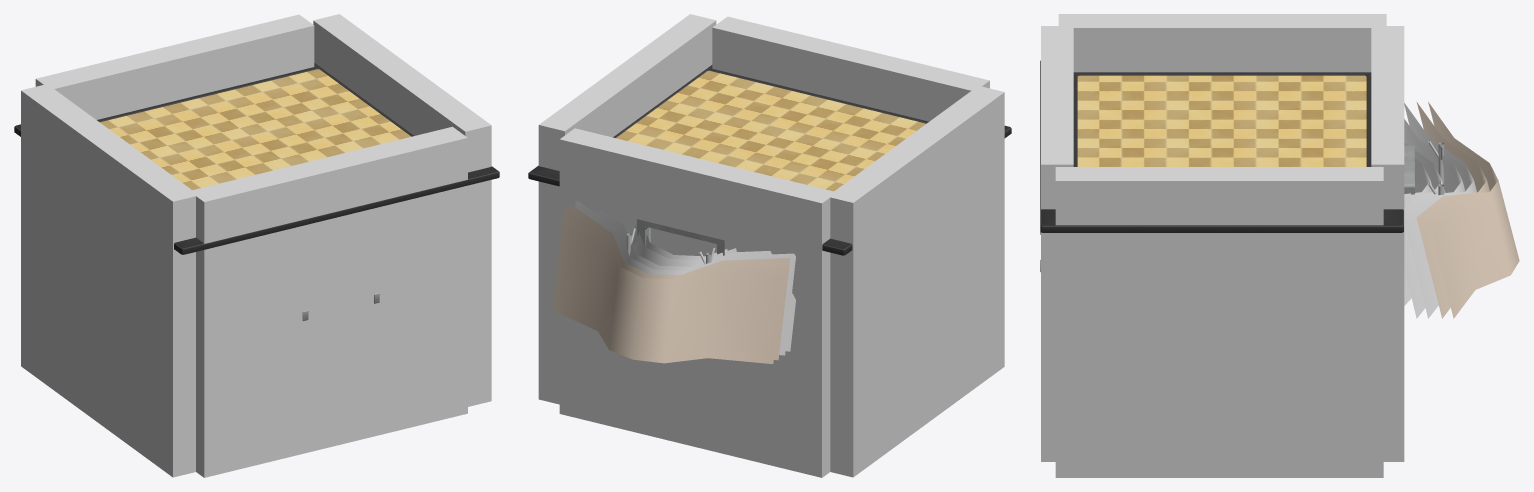
Rendered from jade_to_2.glb.
3 renders of one model, left to right at view 1: azimuth 30°, elevation 25°; view 2: azimuth 150°, elevation 25°; view 3: azimuth 270°, elevation 25°, orthographic. The views are drawn at different scales.
Visible parts, largest first — view 1: wall_colli, xall_2_colli, toit.001, wall_3_colli, wall_4_colli, wall_black_1.001, wall_black_1; view 2: xall_2_colli, wall_4_colli, fake_fog_06_add, toit.001, wall_3_colli, wall_colli, fake_fog_04, fake_fog_05_add, fake_fog_03, fc4767b81364e5d768f38ec1, wall_black_1, wall_black_1.001 (+1 smaller); view 3: wall_3_colli, toit.001, xall_2_colli, wall_4_colli, wall_colli, fake_fog_06_add, wall_black_1.001, fake_fog_04, fake_fog_05_add, fake_fog_03, wall_black_1, fc4767b81364e5d768f38ec1 (+1 smaller).
Boxes of the visible parts, x1,y1,x2,y2 form: wall_colli: (189, 126, 467, 477); xall_2_colli: (21, 84, 198, 477); toit.001: (100, 69, 410, 189); wall_3_colli: (313, 14, 491, 406); wall_4_colli: (35, 14, 314, 119); wall_black_1.001: (174, 65, 499, 254); wall_black_1: (14, 63, 412, 136); xall_2_colli: (827, 86, 1004, 477); wall_4_colli: (559, 128, 833, 477); fake_fog_06_add: (553, 208, 784, 363); toit.001: (616, 70, 925, 191); wall_3_colli: (538, 14, 716, 404); wall_colli: (712, 16, 989, 121); fake_fog_04: (575, 201, 795, 355); fake_fog_05_add: (569, 204, 790, 360); fake_fog_03: (598, 210, 795, 351); fc4767b81364e5d768f38ec1: (626, 219, 724, 263); wall_black_1: (528, 70, 852, 255); wall_black_1.001: (613, 65, 1011, 138); wall_3_colli: (1055, 167, 1383, 477); toit.001: (1077, 75, 1366, 166); xall_2_colli: (1058, 14, 1386, 72); wall_4_colli: (1371, 26, 1404, 461); wall_colli: (1041, 26, 1073, 461); fake_fog_06_add: (1428, 102, 1519, 318); wall_black_1.001: (1040, 60, 1376, 232); fake_fog_04: (1404, 103, 1476, 318); fake_fog_05_add: (1416, 102, 1489, 318); fake_fog_03: (1404, 119, 1465, 318); wall_black_1: (1068, 74, 1403, 232); fc4767b81364e5d768f38ec1: (1404, 140, 1444, 195).
Size of the model in its own units: 1210 by 1000 by 1462.
Materials: 24 (21 with a texture image).
